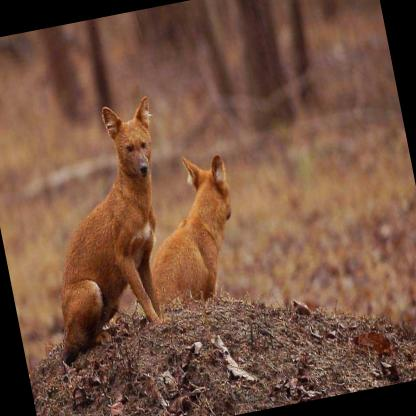dhole: (15, 94, 194, 363), (128, 146, 248, 312)
